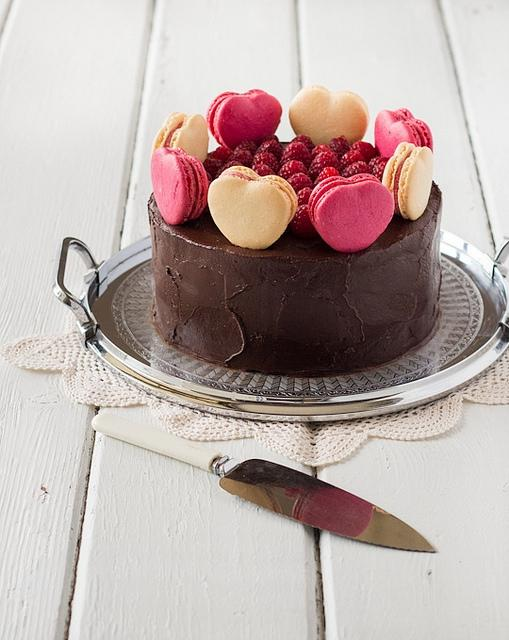raspberry: (289, 204, 320, 239), (309, 151, 341, 183), (280, 142, 312, 170), (252, 152, 282, 174), (277, 160, 309, 180), (349, 140, 376, 163), (286, 173, 314, 195), (255, 140, 283, 162), (214, 160, 244, 180), (340, 150, 367, 172), (328, 135, 350, 161), (314, 167, 340, 188), (341, 161, 372, 178), (291, 134, 316, 154), (203, 158, 223, 182), (228, 150, 253, 168), (234, 141, 258, 158), (210, 146, 234, 162), (296, 187, 314, 207), (368, 156, 389, 172), (373, 161, 387, 182), (252, 164, 276, 176), (312, 144, 332, 158), (261, 134, 279, 144), (207, 172, 212, 188)
